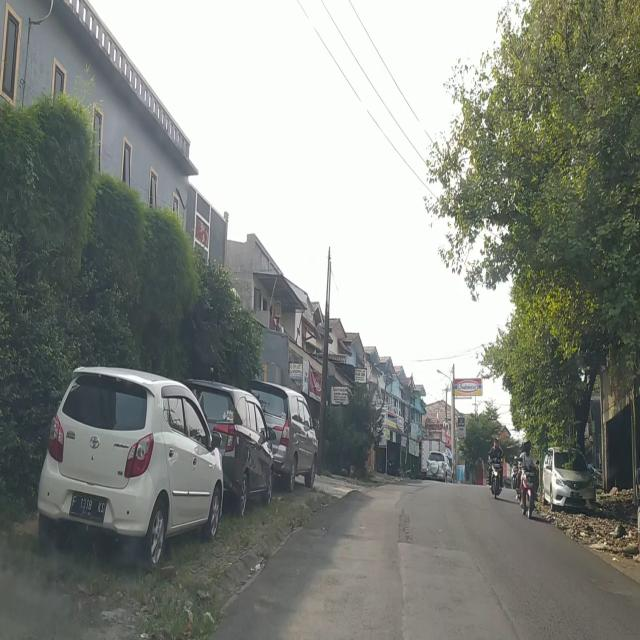Drain Hole: (396, 512, 412, 545)
